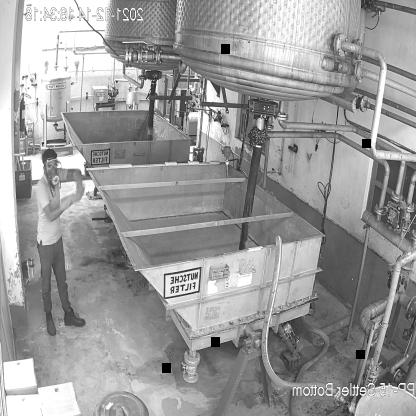goggles: (43, 156, 62, 172)
mask: (42, 166, 63, 187)
shoes: (60, 305, 90, 330), (43, 306, 58, 337)
